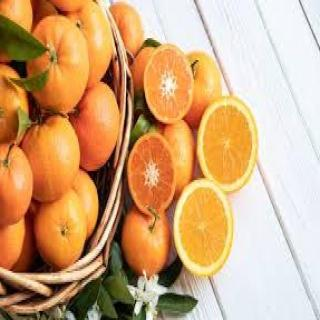orange: (190, 93, 264, 195), (173, 175, 230, 295), (126, 131, 185, 219), (141, 44, 199, 120)
